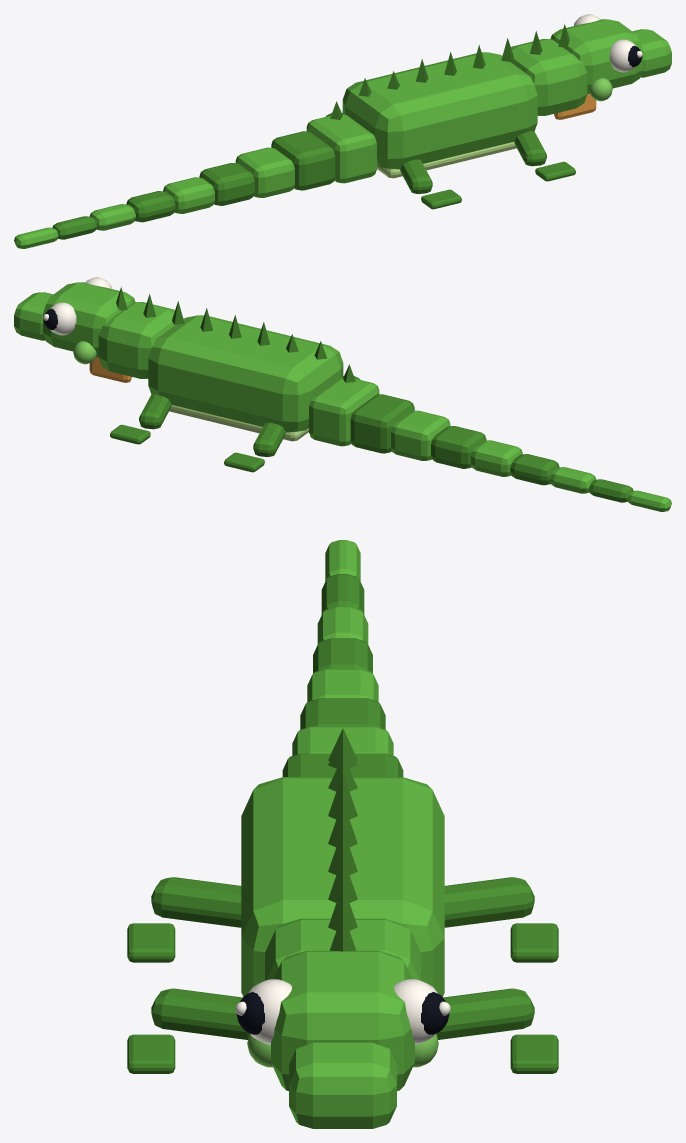
Rendered from iguana.glb.
3 renders of one model, top to bottom at view 1: azimuth 30°, elevation 25°; view 2: azimuth 150°, elevation 25°; view 3: azimuth 270°, elevation 25°, orthographic. The views are drawn at different scales.
Visible parts, largest first — view 1: body, neck, head, tail0, tail1, tail2, tail3, tail4, snout, tail5, belly, tail6 (+9 smaller); view 2: body, neck, head, tail0, tail1, tail2, tail3, tail4, snout, tail5, belly, tail6 (+9 smaller); view 3: body, head, snout, neck, legb-1, legb1, legf-1, legf1, tail2, tail3, tail1, tail4 (+10 smaller).
Boxes of the visible parts, x1=… form: body: x1=342, y1=52, x2=537, y2=169; neck: x1=502, y1=39, x2=587, y2=115; head: x1=550, y1=19, x2=642, y2=93; tail0: x1=306, y1=114, x2=376, y2=183; tail1: x1=271, y1=131, x2=335, y2=190; tail2: x1=235, y1=147, x2=294, y2=197; tail3: x1=199, y1=163, x2=254, y2=205; tail4: x1=163, y1=177, x2=214, y2=213; snout: x1=632, y1=29, x2=671, y2=77; tail5: x1=126, y1=191, x2=175, y2=222; belly: x1=377, y1=142, x2=516, y2=178; tail6: x1=89, y1=204, x2=135, y2=230; body: x1=148, y1=315, x2=343, y2=432; neck: x1=98, y1=302, x2=183, y2=378; head: x1=43, y1=282, x2=135, y2=356; tail0: x1=309, y1=377, x2=379, y2=446; tail1: x1=350, y1=394, x2=414, y2=453; tail2: x1=391, y1=410, x2=450, y2=460; tail3: x1=431, y1=426, x2=486, y2=468; tail4: x1=471, y1=440, x2=522, y2=476; snout: x1=14, y1=292, x2=53, y2=340; tail5: x1=510, y1=454, x2=559, y2=485; belly: x1=169, y1=405, x2=308, y2=441; tail6: x1=550, y1=467, x2=596, y2=493; body: x1=241, y1=777, x2=444, y2=996; head: x1=271, y1=950, x2=414, y2=1090; snout: x1=289, y1=1042, x2=396, y2=1128; neck: x1=265, y1=918, x2=420, y2=980; legb-1: x1=151, y1=877, x2=241, y2=927; legb1: x1=444, y1=877, x2=534, y2=927; legf-1: x1=151, y1=988, x2=249, y2=1039; legf1: x1=436, y1=988, x2=534, y2=1039; tail2: x1=292, y1=726, x2=393, y2=755; tail3: x1=300, y1=698, x2=385, y2=729; tail1: x1=282, y1=753, x2=403, y2=776; tail4: x1=307, y1=669, x2=378, y2=701.
Size of the model in its own units: 2.5 by 0.3775 by 0.72.
